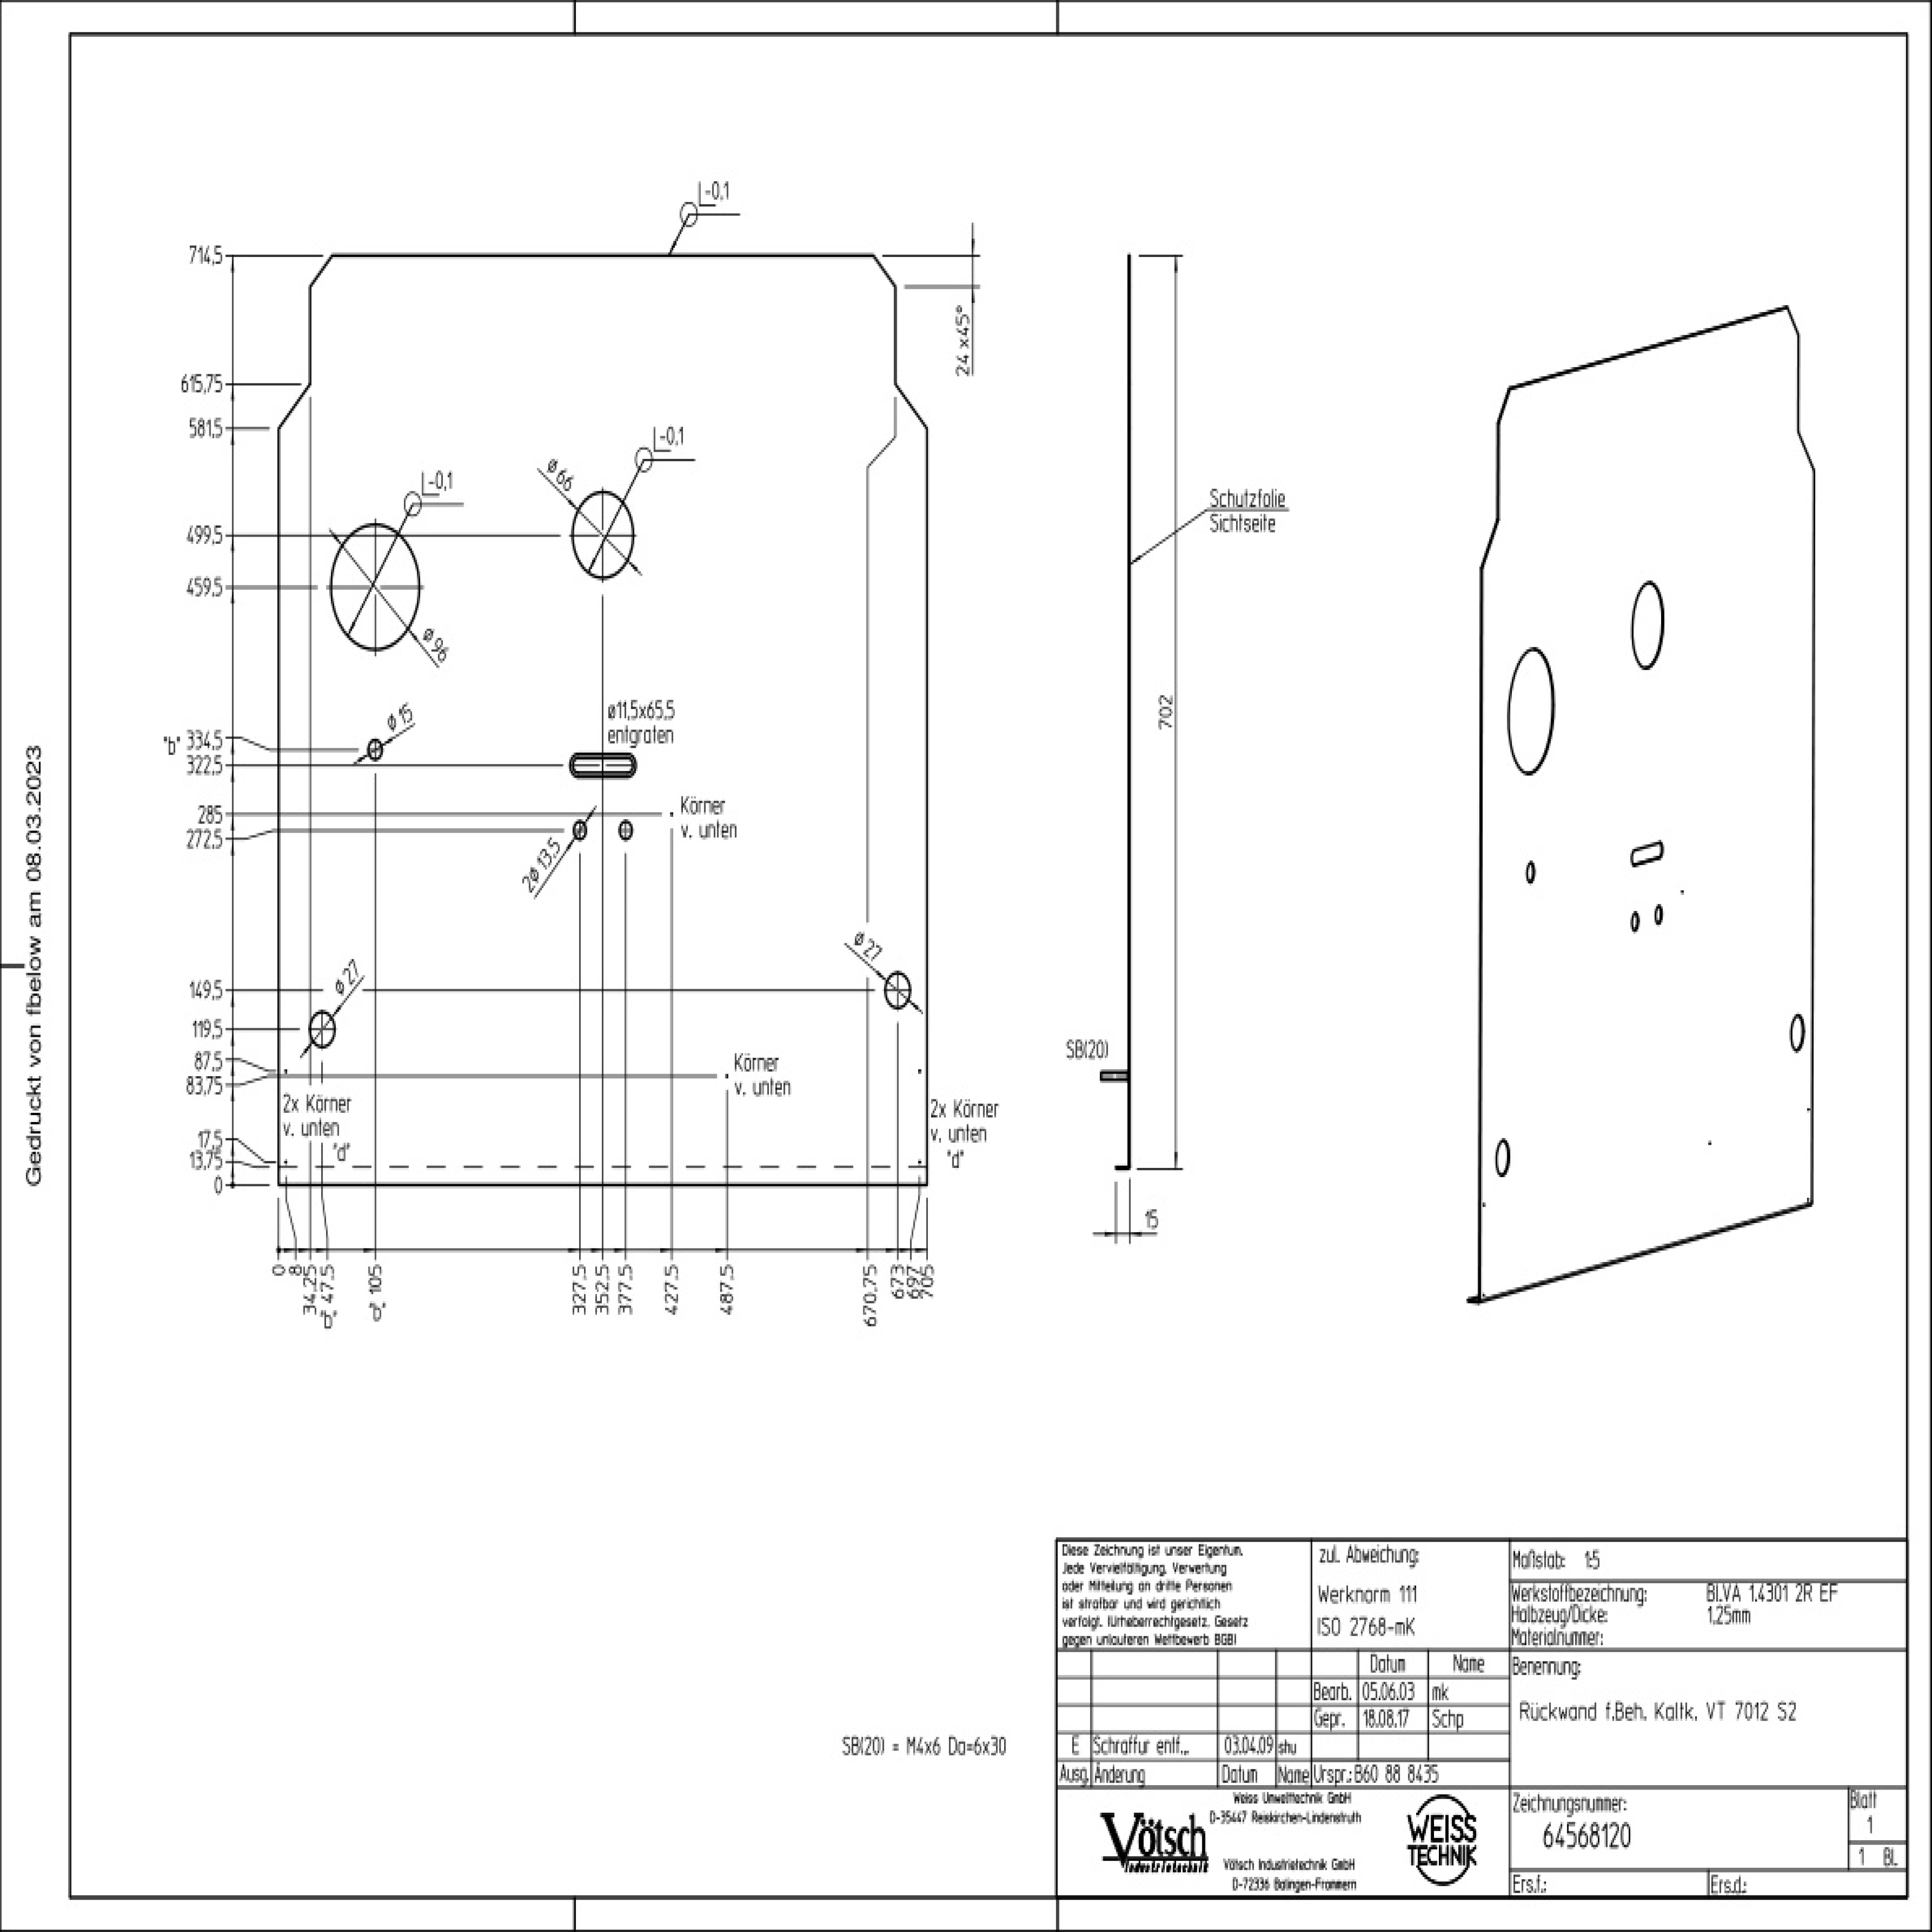InnerContour: (327, 520, 421, 656), (556, 487, 653, 587), (1500, 648, 1566, 777), (1629, 580, 1668, 674), (1626, 839, 1672, 870), (879, 970, 913, 1010), (304, 1010, 338, 1049), (1493, 1138, 1514, 1177), (1789, 1012, 1806, 1053), (570, 819, 591, 846), (364, 740, 387, 761), (614, 819, 635, 842), (1525, 858, 1537, 888), (1629, 911, 1642, 936), (1654, 904, 1665, 925)
